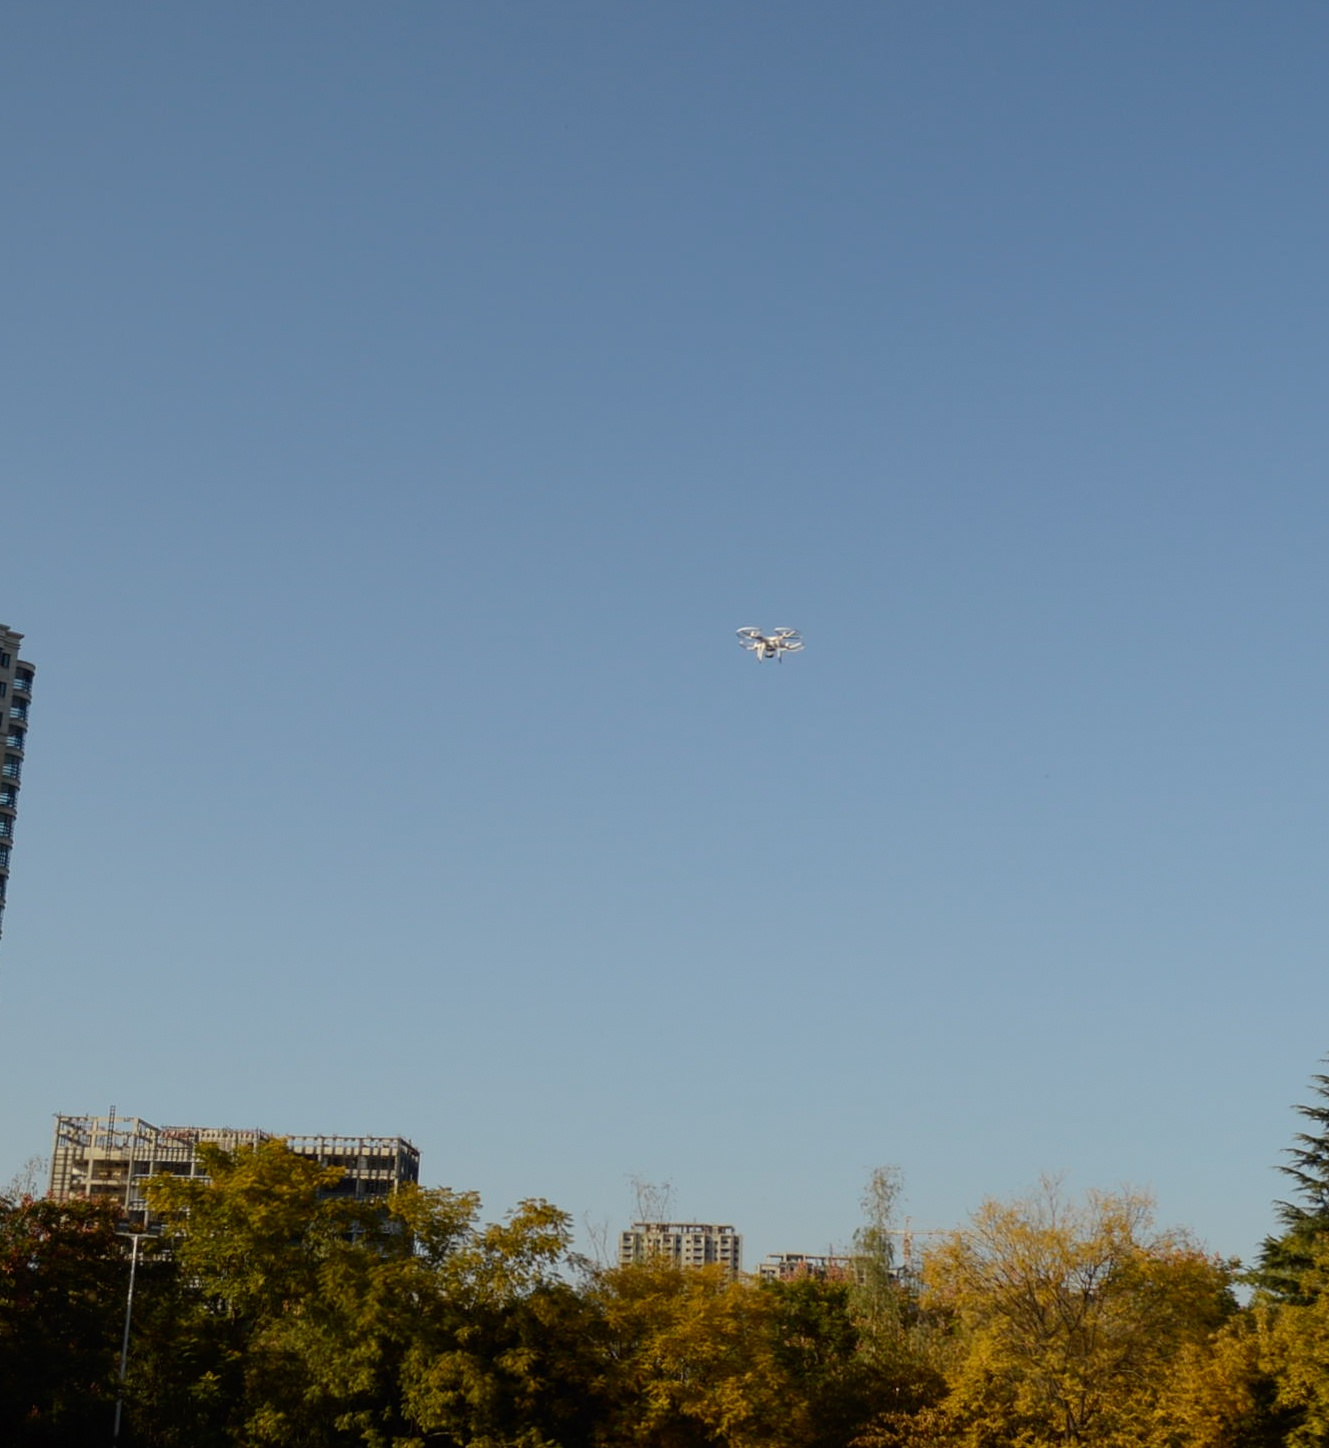DJI: (731, 622, 804, 663)
